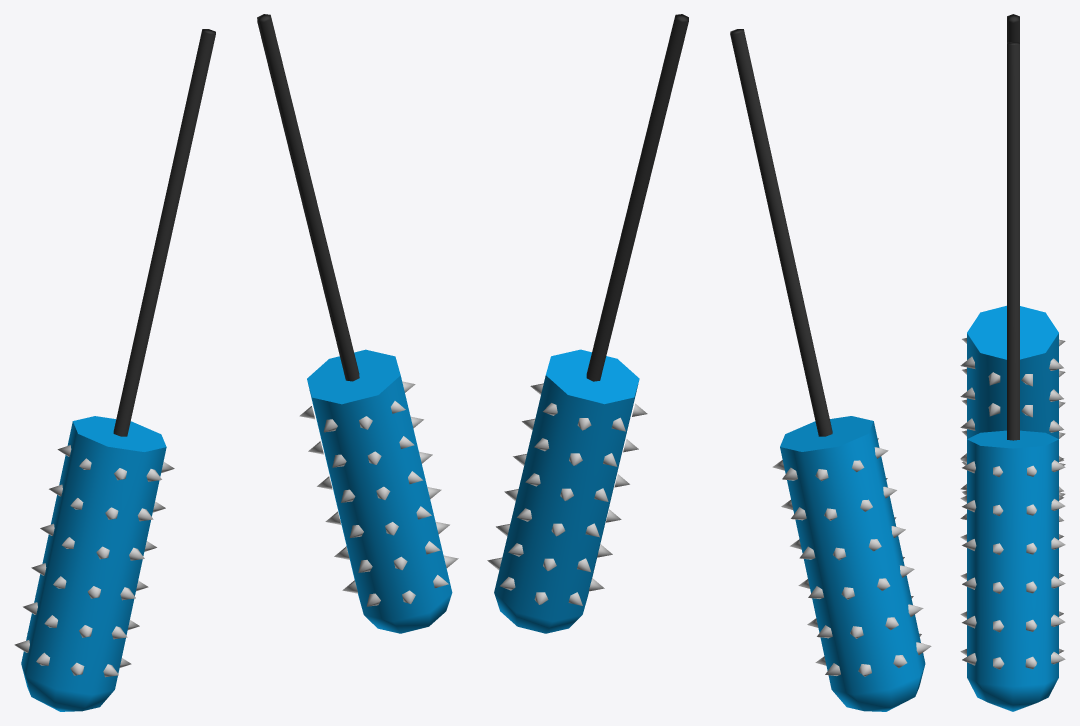
The model's file is _rap_07.fbx.
3 renders of one model, left to right at view 1: azimuth 30°, elevation 25°; view 2: azimuth 150°, elevation 25°; view 3: azimuth 270°, elevation 25°, orthographic. The views are drawn at different scales.
Parts seen in each view (by area): view 1: rotate; view 2: rotate; view 3: rotate.
Boxes of the visible parts, x1,y1,x2,y2 form: rotate: (14,14,458,711); rotate: (487,14,931,711); rotate: (960,14,1065,711).
Bounding box in the file's own units: 1993 × 2908 × 463.
